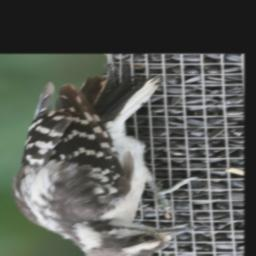Woodpecker: (13, 69, 201, 256)
